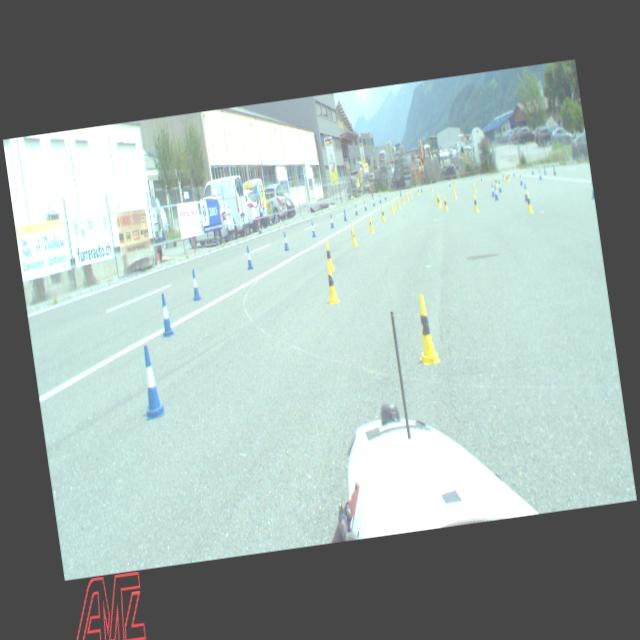blue_cone: (137, 344, 165, 418), (158, 293, 174, 336), (190, 268, 202, 300), (244, 246, 253, 270), (282, 232, 289, 250), (310, 221, 316, 237), (523, 184, 528, 201), (590, 180, 594, 200), (342, 209, 347, 221), (494, 186, 498, 200), (330, 215, 334, 228), (490, 184, 494, 196), (498, 180, 502, 192), (354, 204, 358, 215), (519, 174, 523, 185), (538, 170, 542, 180), (378, 194, 382, 203), (543, 166, 547, 174), (552, 166, 556, 174), (448, 180, 452, 187), (512, 169, 516, 176), (364, 201, 367, 210), (372, 198, 375, 206), (399, 189, 402, 196), (420, 185, 423, 192), (531, 167, 534, 174), (384, 192, 386, 200), (480, 174, 482, 181)
yellow_cone: (412, 293, 441, 365), (323, 262, 340, 304), (324, 242, 334, 271), (524, 190, 534, 213), (350, 224, 358, 246), (472, 195, 480, 212), (442, 196, 448, 212), (368, 215, 373, 232), (380, 207, 386, 221), (436, 195, 441, 208), (390, 202, 395, 214), (396, 198, 401, 209), (438, 192, 442, 205), (453, 188, 457, 199), (402, 194, 406, 204), (472, 182, 476, 192), (494, 176, 498, 186), (505, 172, 509, 182), (507, 172, 511, 181), (502, 172, 505, 180), (417, 188, 420, 195), (478, 176, 481, 183), (406, 192, 408, 200), (410, 190, 412, 198), (454, 180, 456, 188), (430, 184, 432, 192)
